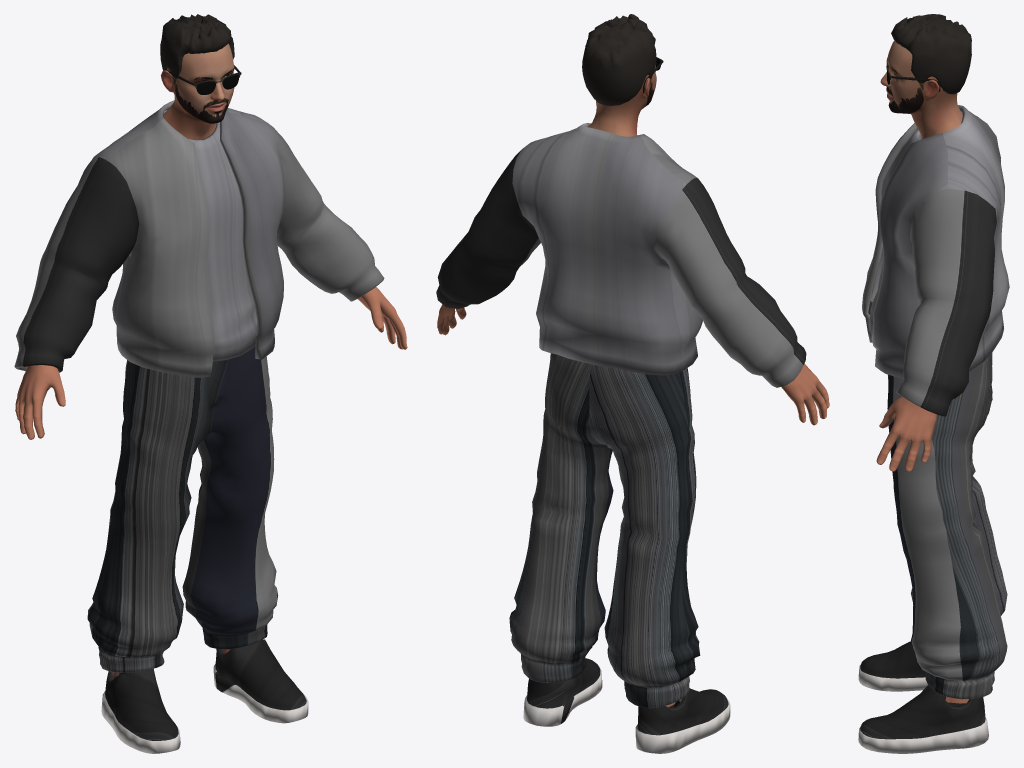
File: myAvatar.fbx
3 renders of one model, left to right at view 1: azimuth 30°, elevation 25°; view 2: azimuth 150°, elevation 25°; view 3: azimuth 270°, elevation 25°, orthographic.
Visible parts, largest first — view 1: Wolf3D_Outfit_Top, Wolf3D_Outfit_Bottom, Wolf3D_Outfit_Footwear, Wolf3D_Head, Wolf3D_Body, Wolf3D_Hair; view 2: Wolf3D_Outfit_Top, Wolf3D_Outfit_Bottom, Wolf3D_Outfit_Footwear, Wolf3D_Hair, Wolf3D_Body, Wolf3D_Head; view 3: Wolf3D_Outfit_Top, Wolf3D_Outfit_Bottom, Wolf3D_Outfit_Footwear, Wolf3D_Hair, Wolf3D_Head, Wolf3D_Body.
Boxes of the visible parts, x1,y1,x2,y2 form: Wolf3D_Outfit_Top: (14,100,384,377); Wolf3D_Outfit_Bottom: (87,346,278,672); Wolf3D_Outfit_Footwear: (101,639,308,753); Wolf3D_Head: (161,43,234,139); Wolf3D_Body: (15,287,407,676); Wolf3D_Hair: (160,14,234,79); Wolf3D_Outfit_Top: (436,123,806,387); Wolf3D_Outfit_Bottom: (509,353,700,708); Wolf3D_Outfit_Footwear: (523,658,730,753); Wolf3D_Hair: (582,14,656,105); Wolf3D_Body: (437,304,829,707); Wolf3D_Head: (588,63,656,136); Wolf3D_Outfit_Top: (862,105,1009,416); Wolf3D_Outfit_Bottom: (887,353,1007,699); Wolf3D_Outfit_Footwear: (858,641,988,753); Wolf3D_Hair: (891,14,971,94); Wolf3D_Head: (880,40,962,139); Wolf3D_Body: (876,396,968,703).
Size of the model in its own units: 1.06 by 1.86 by 0.3672.
Materials: 9 (9 with a texture image).
